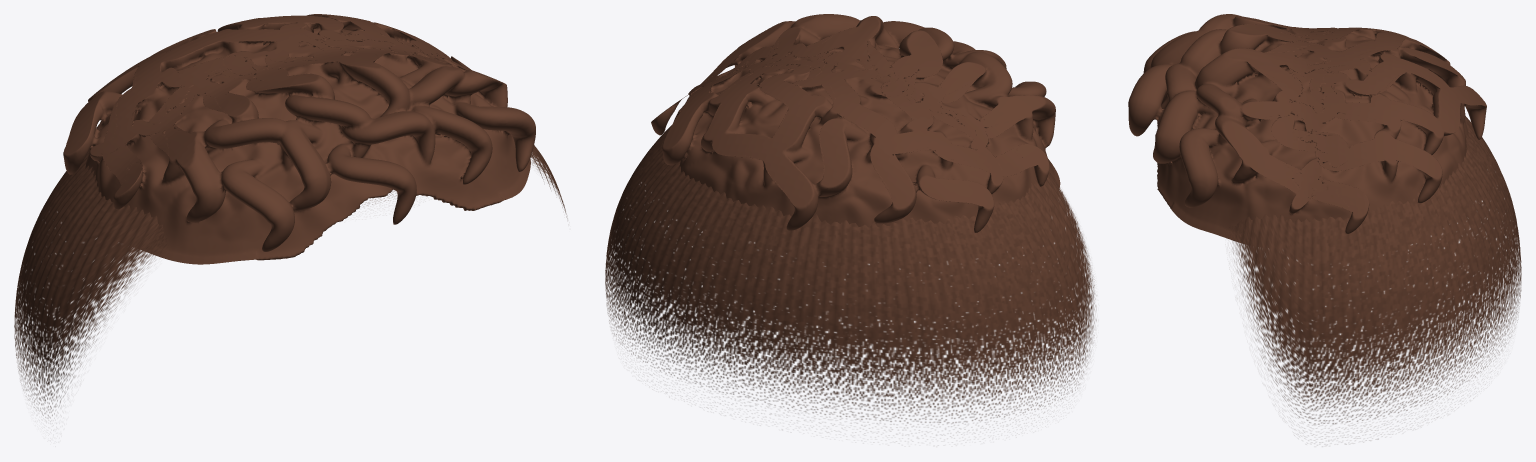
File: Masculine-curly-top-pashmina256-hair.glb
The picture shows the model from 3 angles, left to right: view 1: azimuth 30°, elevation 25°; view 2: azimuth 150°, elevation 25°; view 3: azimuth 270°, elevation 25°; orthographic projection. The views are drawn at different scales.
Parts seen in each view (by area): view 1: 226 hair / Hair252 / sculpted curl groups, 226 hair / Hair256 / selected B sides; view 2: 226 hair / Hair256 / selected B sides, 226 hair / Hair252 / sculpted curl groups; view 3: 226 hair / Hair252 / sculpted curl groups, 226 hair / Hair256 / selected B sides.
Boxes of the visible parts, <box> form: 226 hair / Hair252 / sculpted curl groups: <box>63,14,535,264</box>; 226 hair / Hair256 / selected B sides: <box>14,145,567,417</box>; 226 hair / Hair256 / selected B sides: <box>605,125,1096,424</box>; 226 hair / Hair252 / sculpted curl groups: <box>651,14,1060,232</box>; 226 hair / Hair252 / sculpted curl groups: <box>1128,14,1486,244</box>; 226 hair / Hair256 / selected B sides: <box>1229,116,1521,439</box>.
Bounding box in the file's own units: 0.972 × 0.6388 × 0.7498.
2 materials, 1 textured.
